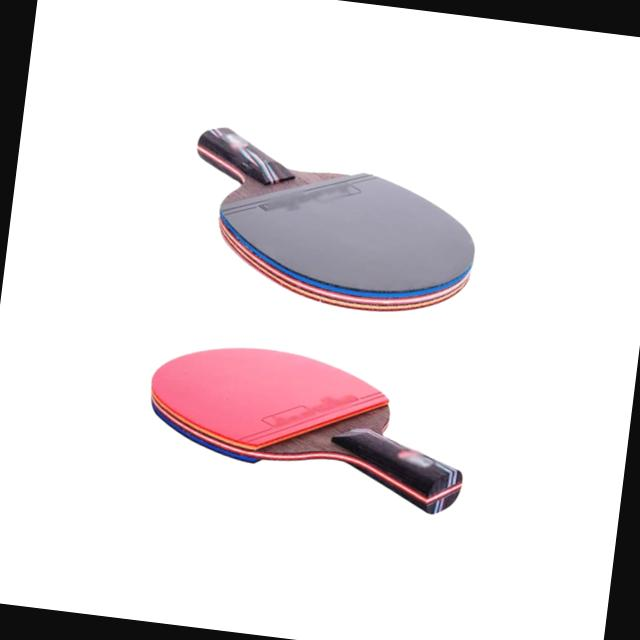TT Racket: (84, 229, 460, 577), (143, 108, 561, 377)
